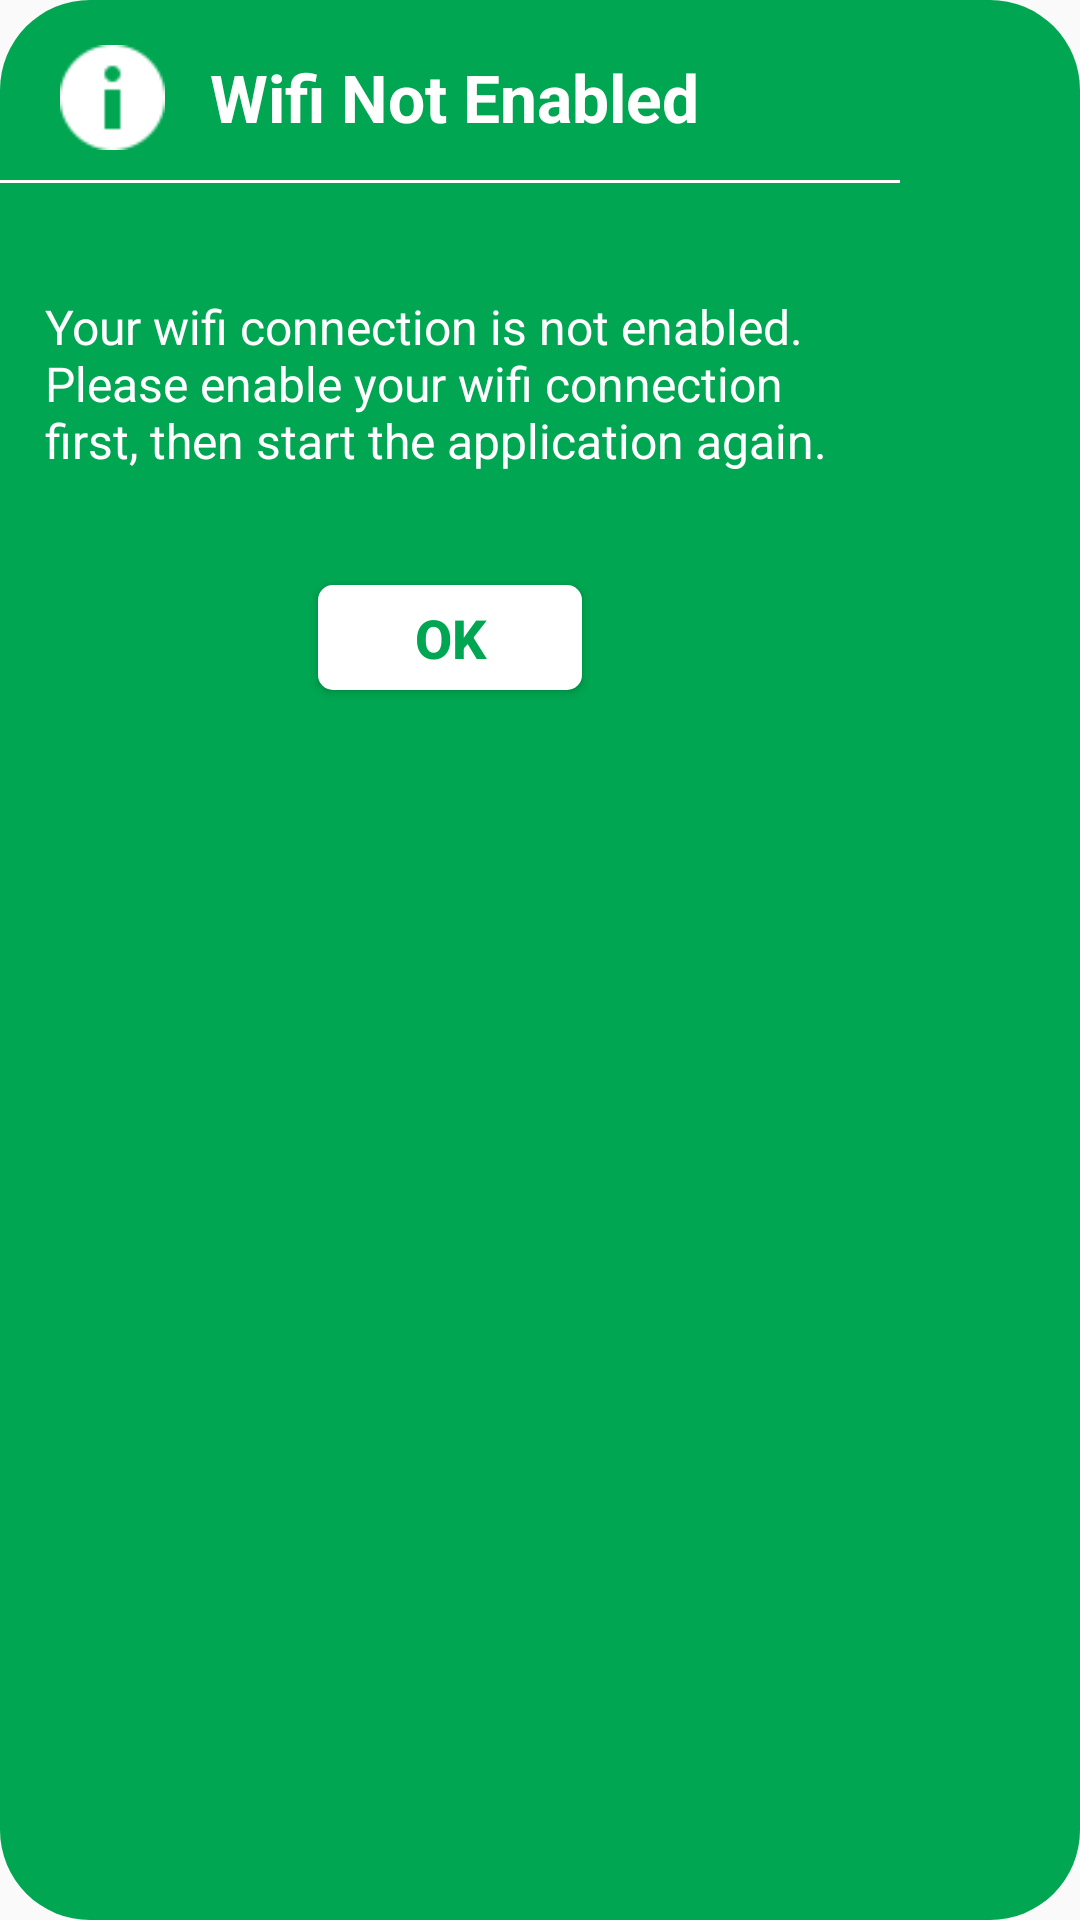

Screen size 1080*1920. Icon name, then its center in pixels as point (x, y):
info: point (112, 97)
